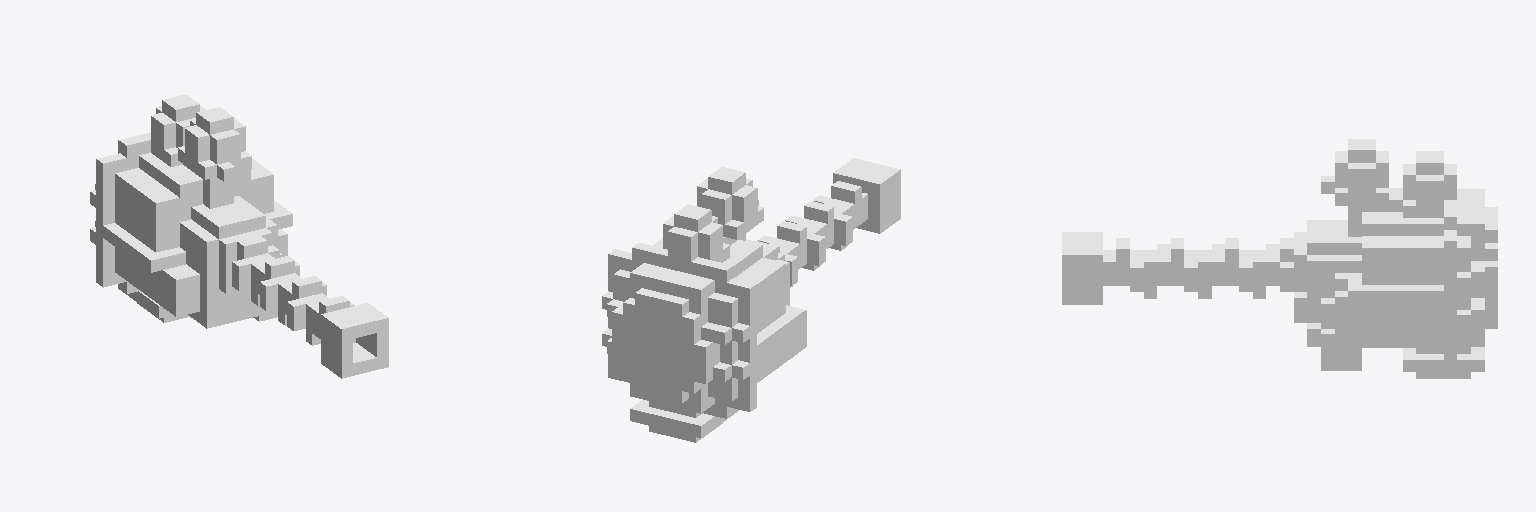
File: tower_head.obj
3 views of the same model, side by side, from view 1: azimuth 30°, elevation 25°; view 2: azimuth 150°, elevation 25°; view 3: azimuth 270°, elevation 25° (orthographic).
Visible parts, largest first — view 1: object 1; view 2: object 1; view 3: object 1.
Boxes of the visible parts, <box> form: object 1: <box>90,94,388,378</box>; object 1: <box>602,158,900,442</box>; object 1: <box>1062,139,1497,378</box>.
Bounding box in the file's own units: 1.2 × 1.8 × 3.2.